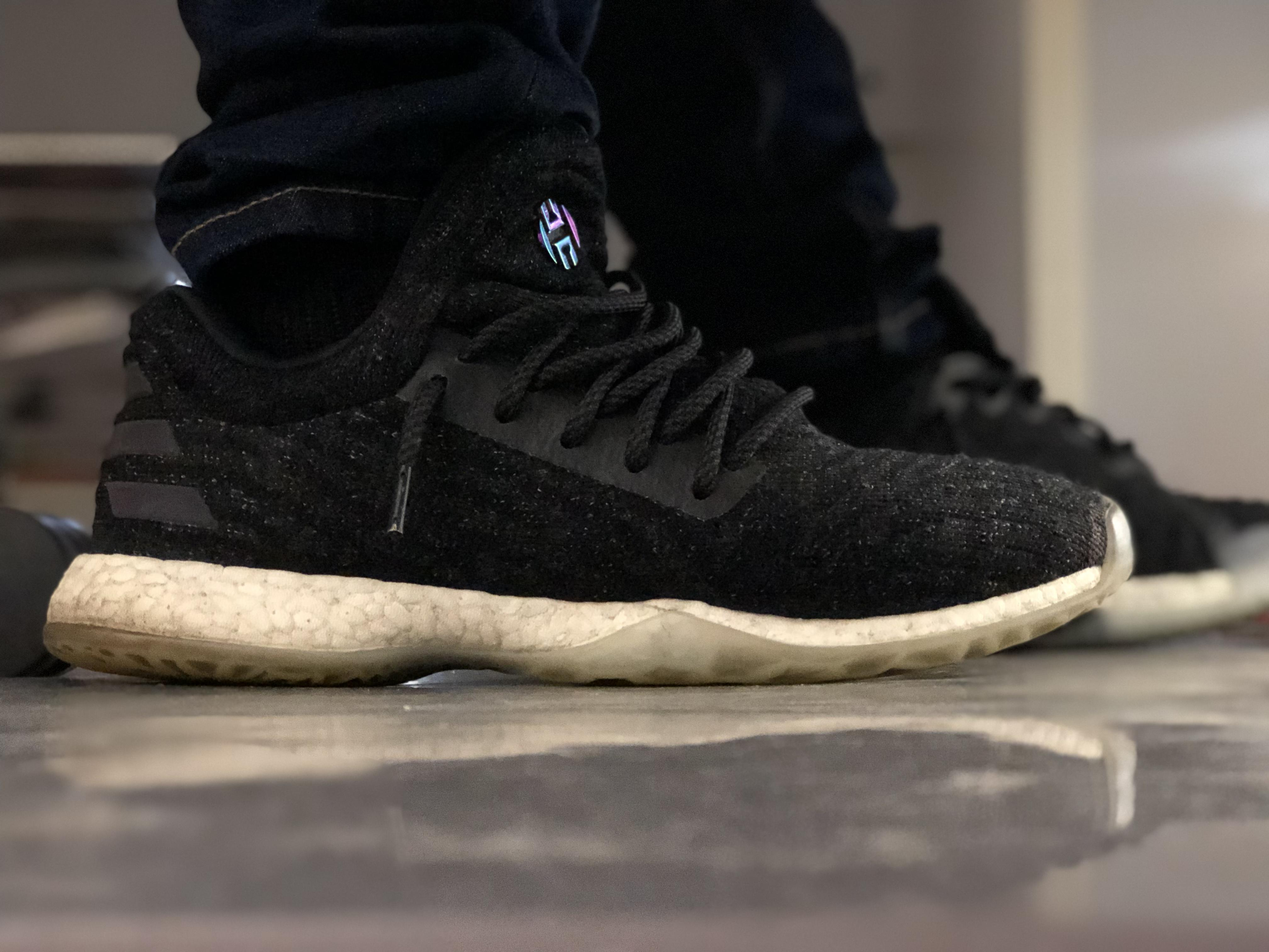sneaker: (40, 302, 1135, 684), (740, 269, 1269, 632)
